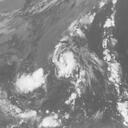cyclone: (51, 42, 82, 78)
